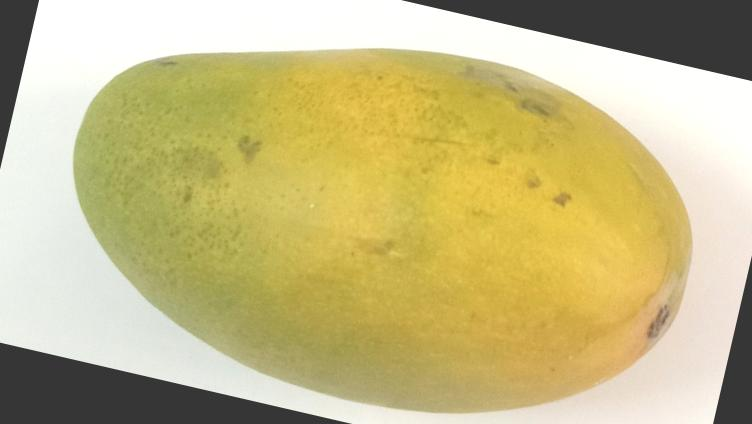Mango Ripe: (1, 0, 737, 424)
